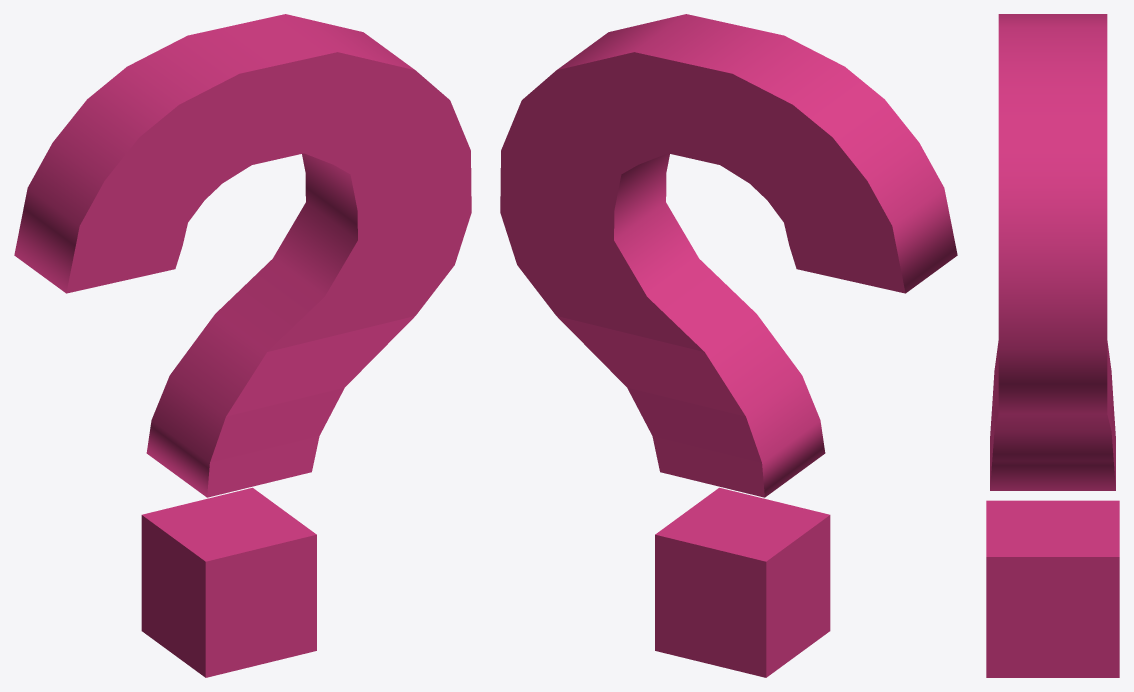
File: Event-Question.fbx
The picture shows the model from 3 angles, left to right: view 1: azimuth 30°, elevation 25°; view 2: azimuth 150°, elevation 25°; view 3: azimuth 270°, elevation 25°; orthographic projection. The views are drawn at different scales.
Visible parts, largest first — view 1: Event-Question; view 2: Event-Question; view 3: Event-Question.
Boxes of the visible parts, x1,y1,x2,y2 form: Event-Question: (14,14,471,677); Event-Question: (500,14,957,677); Event-Question: (986,14,1119,677).
Bounding box in the file's own units: 297 × 413 × 81.45.
1 material, 1 textured.
